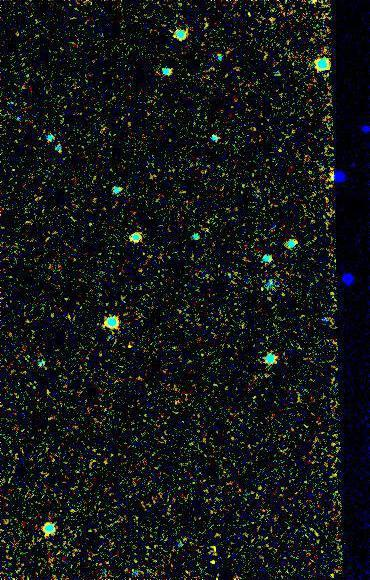star: (198, 544, 228, 574)
